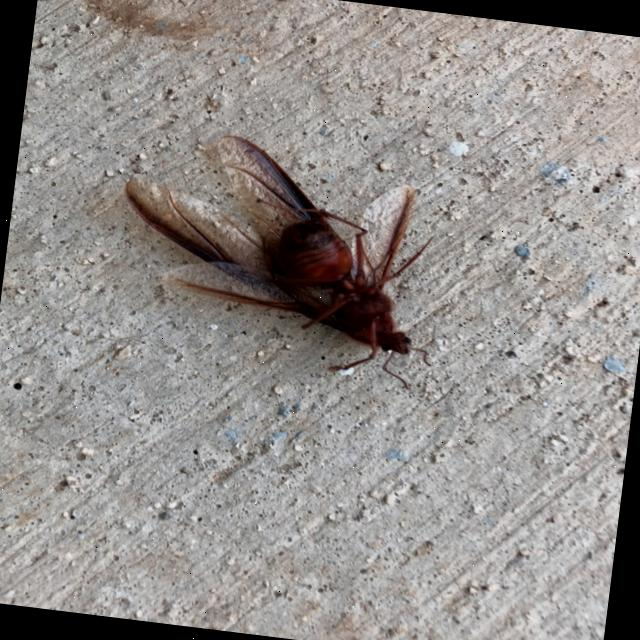Dead-Male-Alate: (104, 122, 456, 392)
